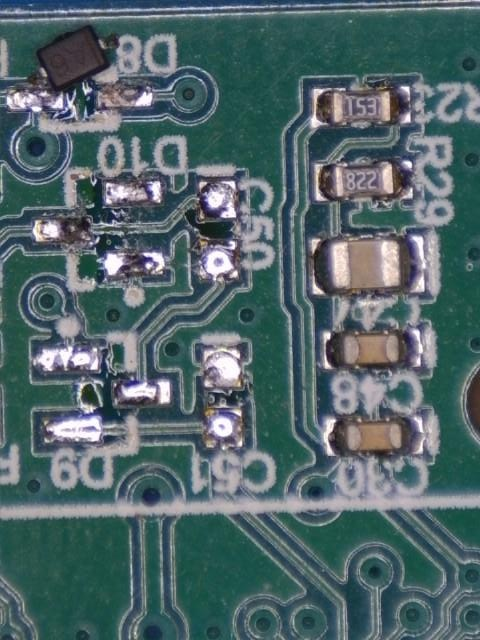pcb_defect: (7, 24, 120, 111)
